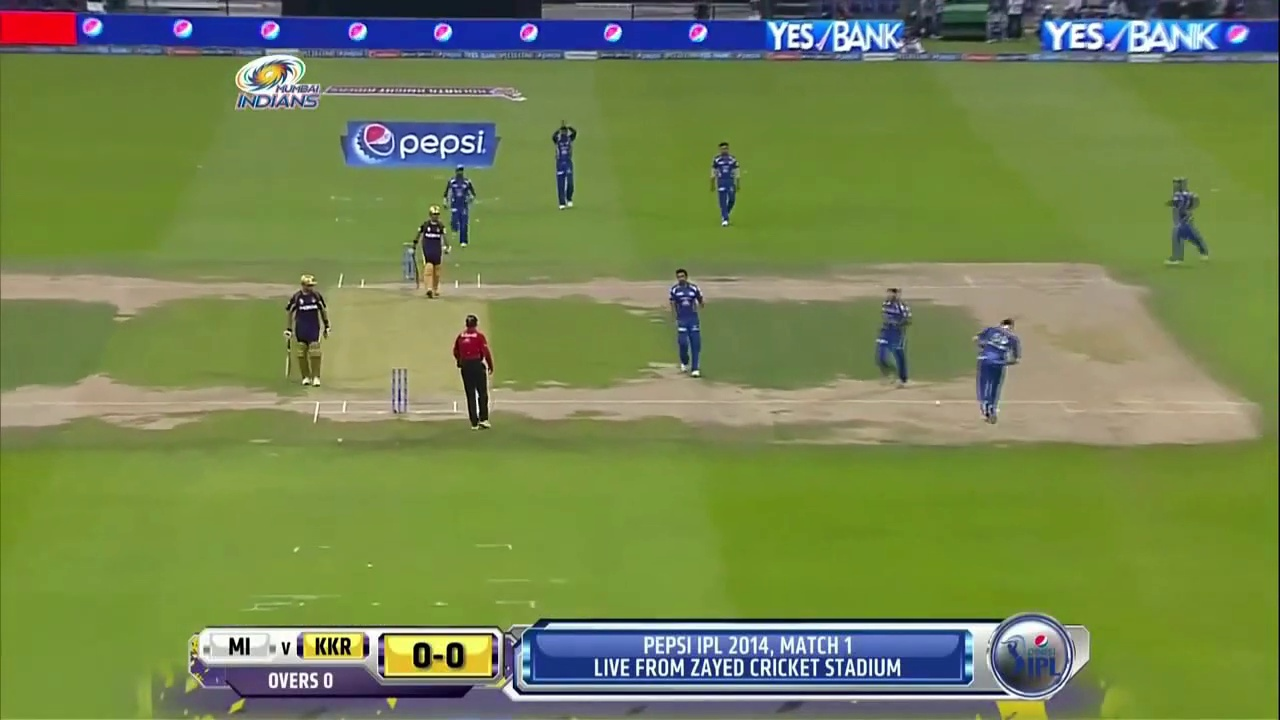bat: (413, 257, 421, 289), (286, 343, 292, 379)
stumps: (389, 366, 410, 414)
